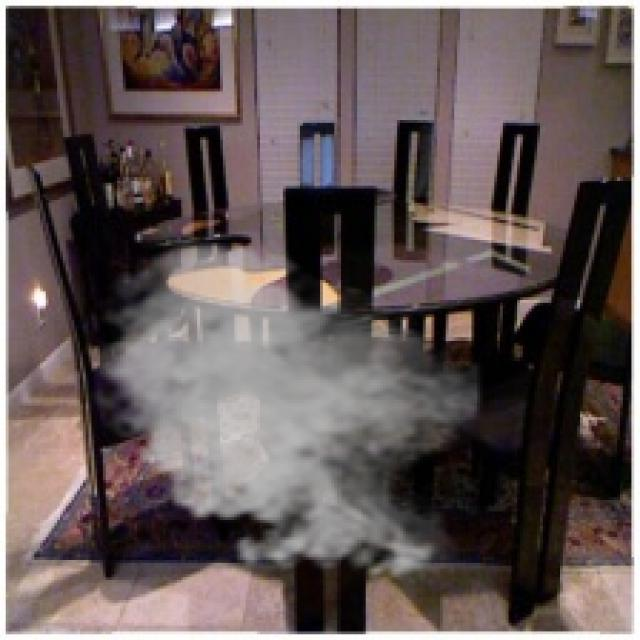smoke: (83, 234, 483, 592)
